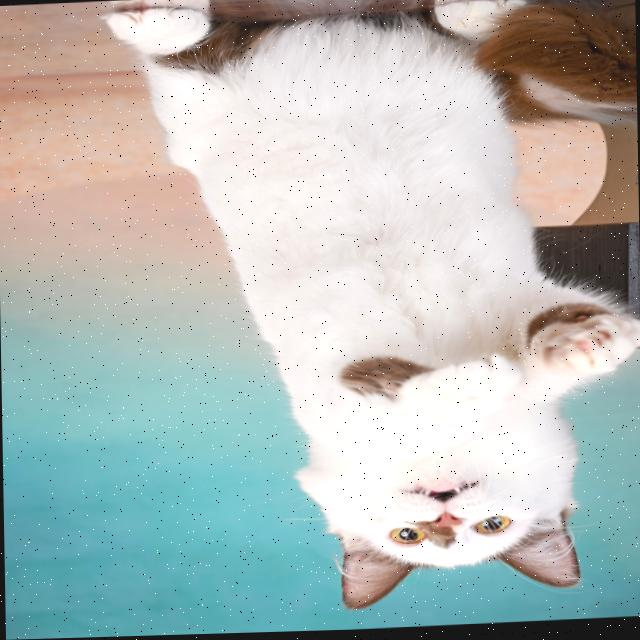Munchkin: (98, 0, 640, 624)
